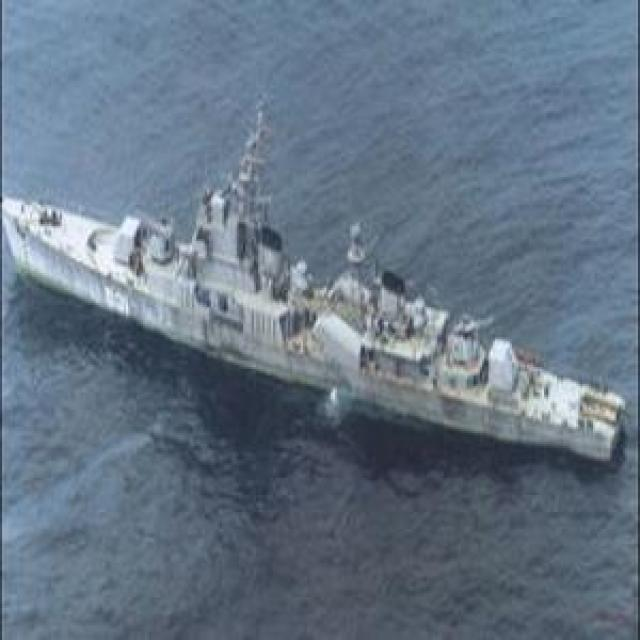navalvessels: (8, 112, 624, 478)
